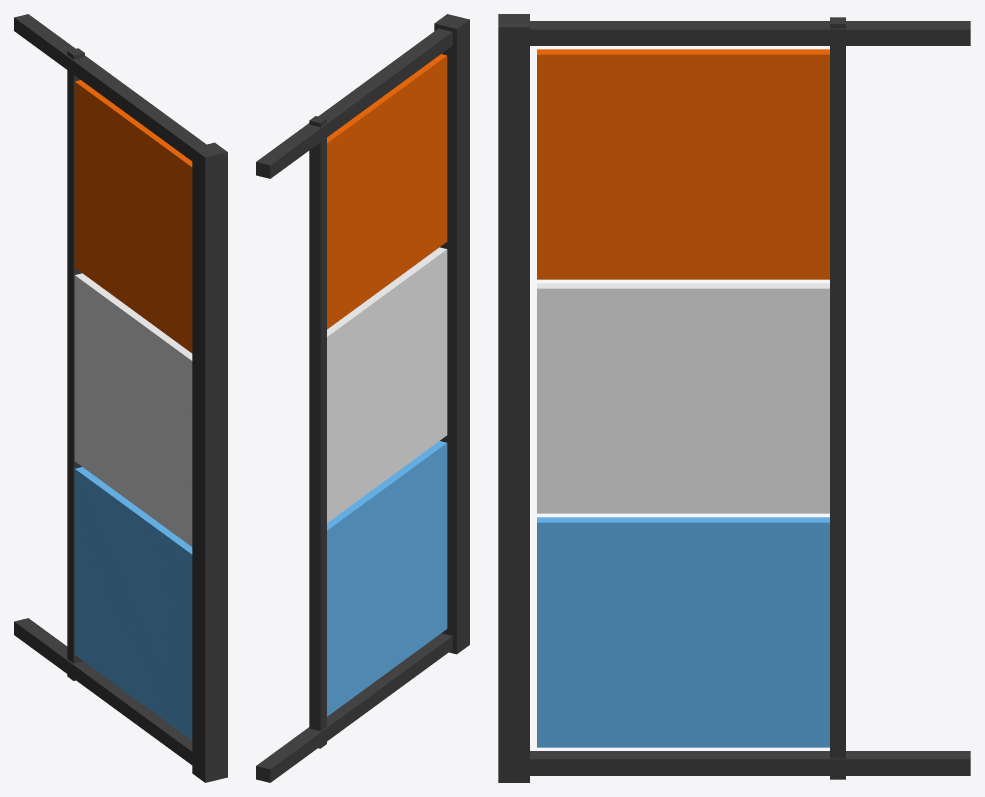
The model's file is billboard_02.fbx.
The picture shows the model from 3 angles, left to right: view 1: azimuth 30°, elevation 25°; view 2: azimuth 150°, elevation 25°; view 3: azimuth 270°, elevation 25°; orthographic projection. The views are drawn at different scales.
Visible parts, largest first — view 1: billboard_02; view 2: billboard_02; view 3: billboard_02.
Part boxes in pixels (<box>): billboard_02: <box>14,14,227,782</box>; billboard_02: <box>256,14,469,782</box>; billboard_02: <box>498,14,970,782</box>.
Bounding box in the file's own units: 23.05 × 611 × 346.
1 material, 1 textured.
